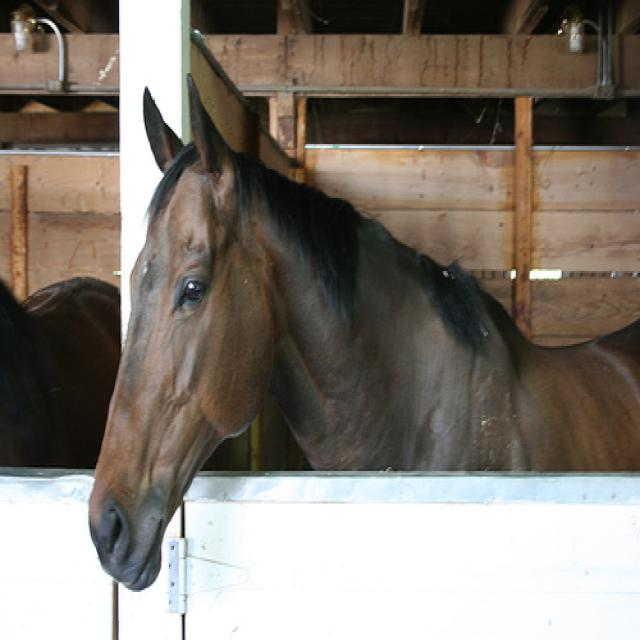horse: (88, 70, 640, 595)
